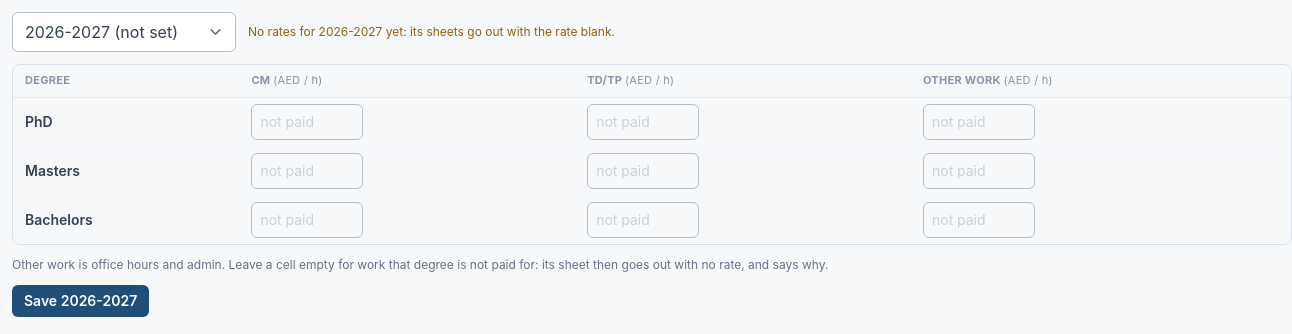
it: the department's pay rates › refuses a rate that is not a number of dirhams, and saves nothing
Check: the text "No rates for" is shown, box [248,24,319,39]
Type "-5" into the number field named "PhD CM rate" at (307, 122), box [251,104,363,140]
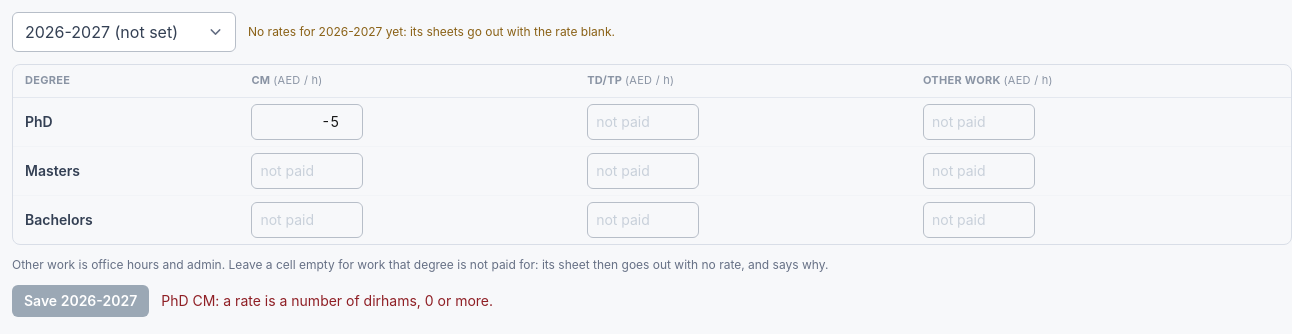
Check: the text "PhD CM: a rate is a number of dirhams, 0 or more." is shown, box [161,291,493,311]
